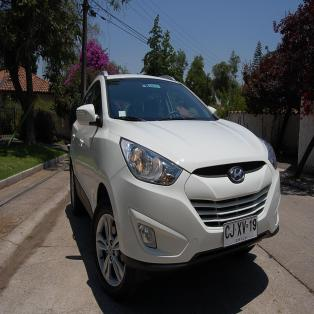Auto: (68, 70, 282, 292)
